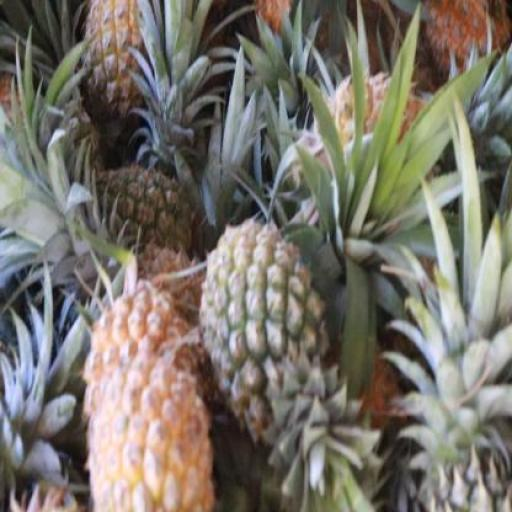------------------------------: (204, 223, 332, 421), (80, 0, 161, 139)
Pineapple - v8 v1: (86, 359, 217, 512), (425, 0, 510, 91)
